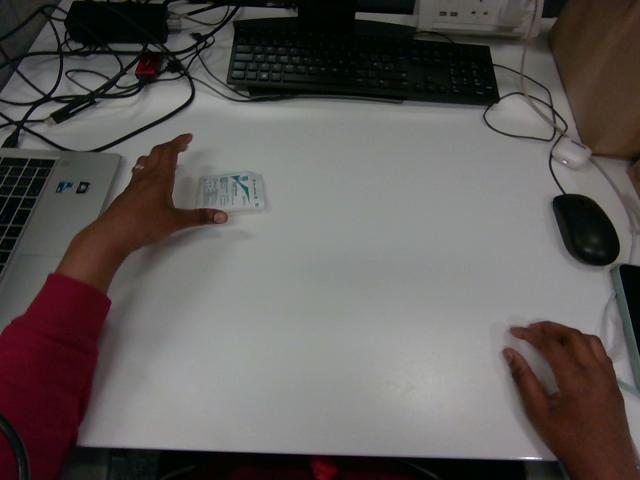gauze: (197, 172, 265, 211)
